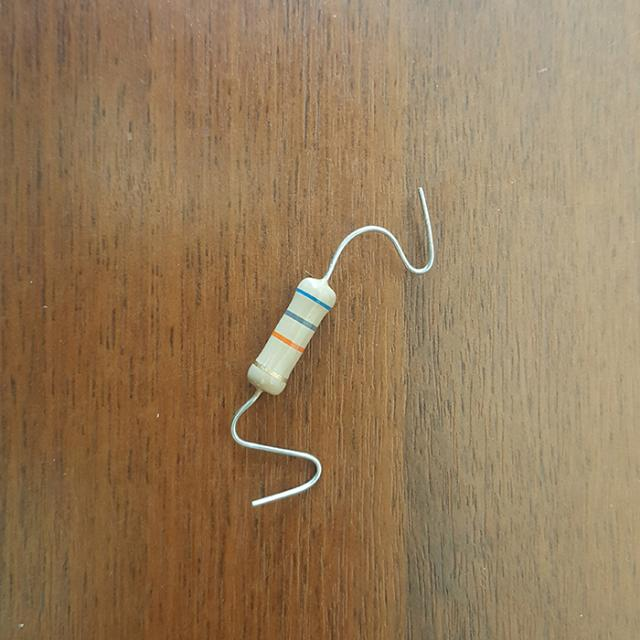blue: (295, 289, 331, 310)
gold: (255, 360, 286, 381)
grey: (285, 309, 315, 330)
orange: (272, 330, 303, 352)
resistor: (249, 238, 346, 401)
